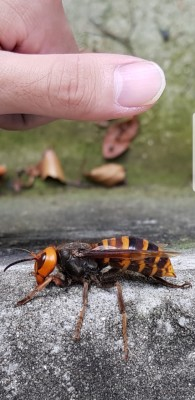asian_giant_hornet: (17, 233, 183, 286)
